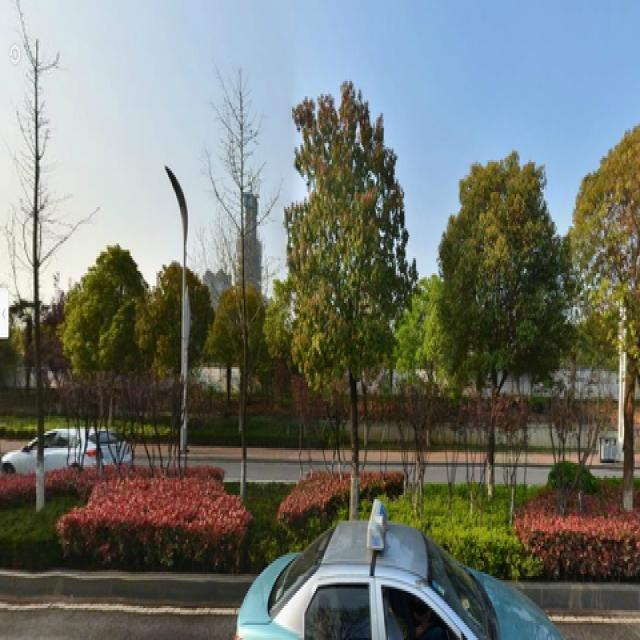cinn: (301, 111, 379, 497), (456, 147, 539, 474)
